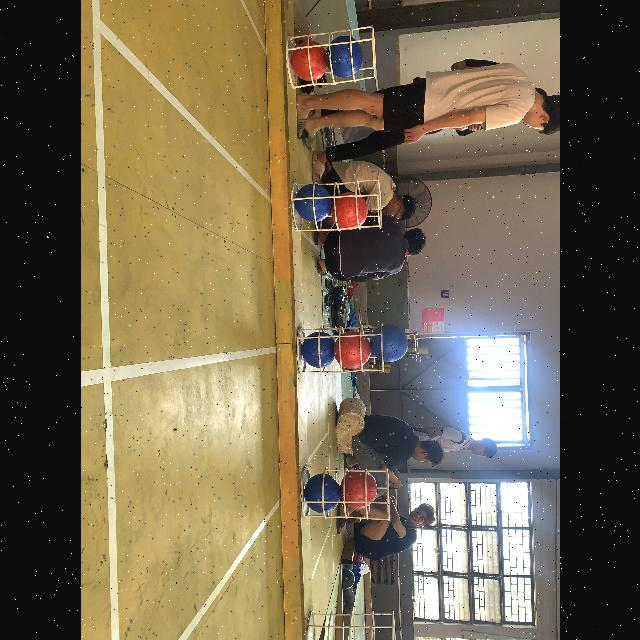B: (303, 474, 341, 514), (326, 36, 362, 78), (371, 324, 409, 362), (294, 184, 330, 222), (301, 332, 335, 368)
R: (341, 470, 377, 510), (292, 40, 326, 82), (334, 332, 371, 370), (332, 192, 366, 230)
